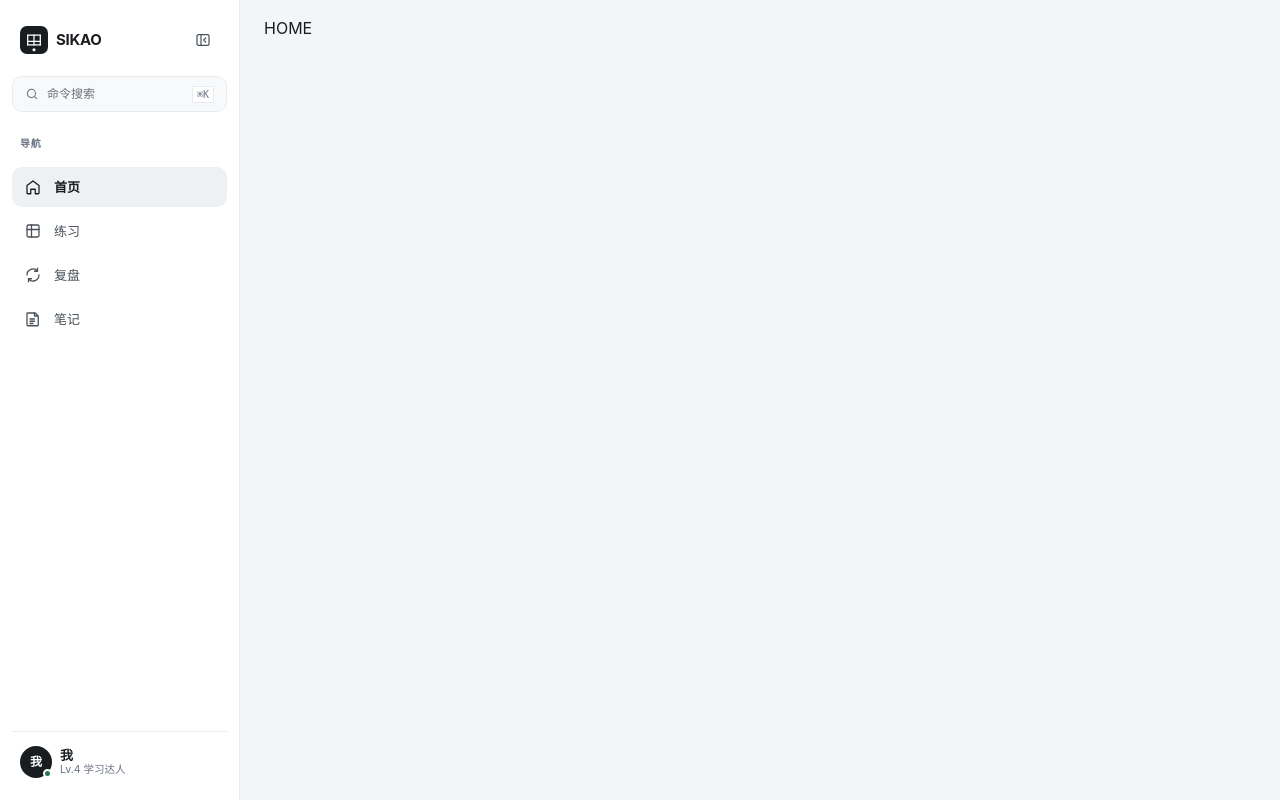
RootLayout (V5 §D.4 SaaS shell) › clicking an enabled account item navigates and closes the popover
The image size is (1280, 800).
Click the button with test id "rail-me-trigger": (120, 762) [12, 740, 227, 784]
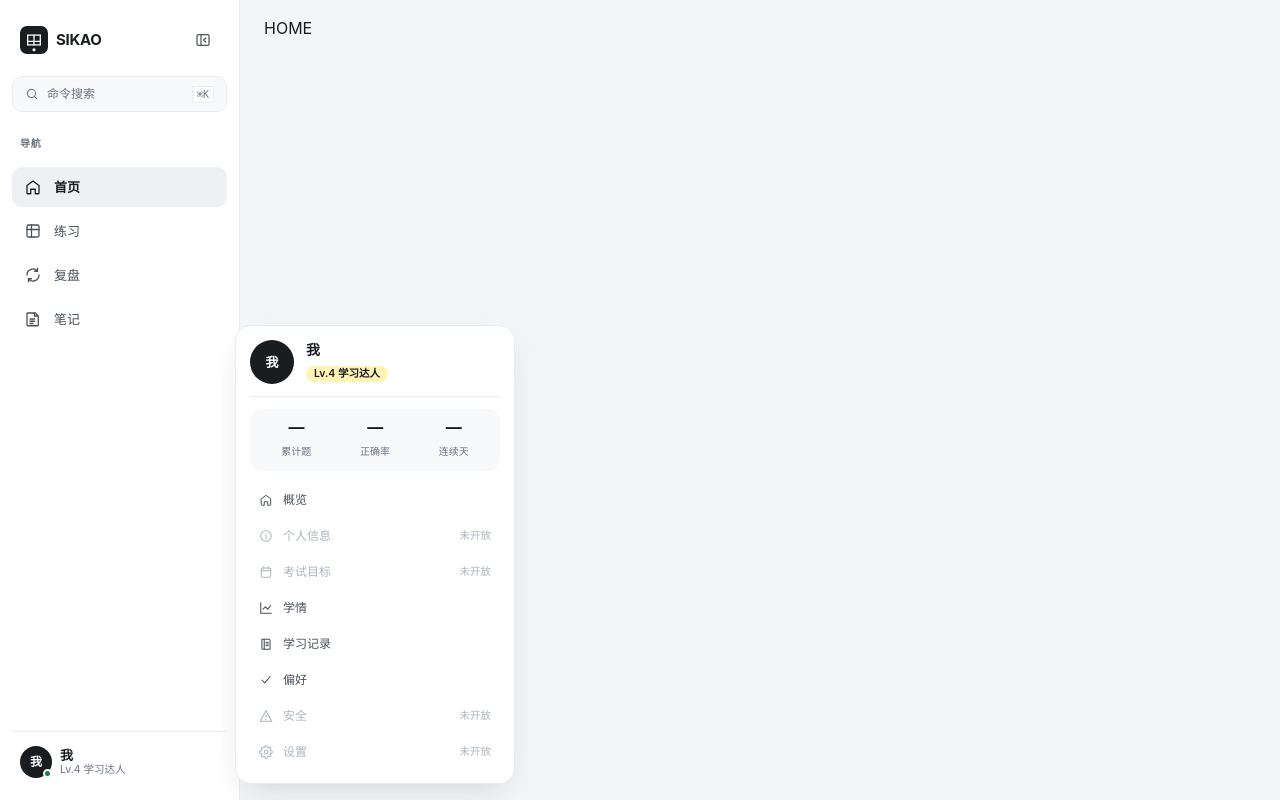
Click the link with test id "rail-me-menu-item-records": (295, 643) [259, 636, 331, 651]
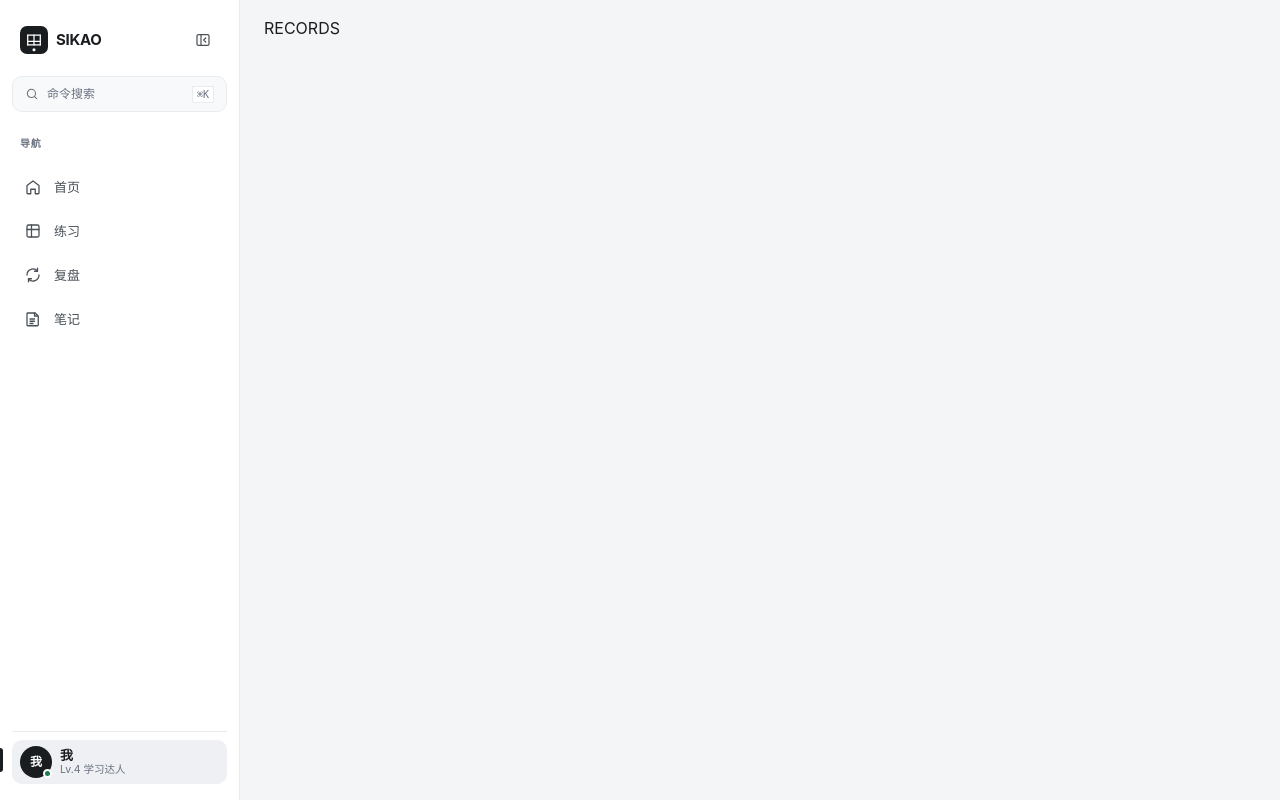
Expected: the text "RECORDS" is shown, [264, 18, 340, 38]
Expected: the element with test id "rail-me-menu" is gone
